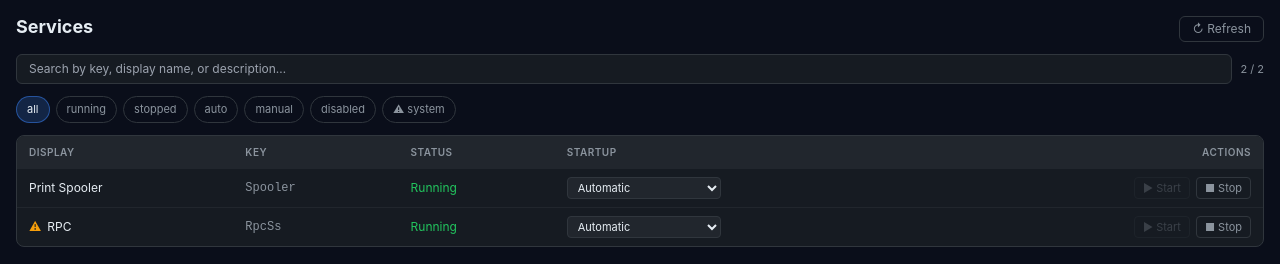
Scenario: Services page › load-bearing chip filters to only the system services
The image size is (1280, 264).
Click the button "⚠ system" at (419, 109), box left=382, top=96, right=456, bottom=122
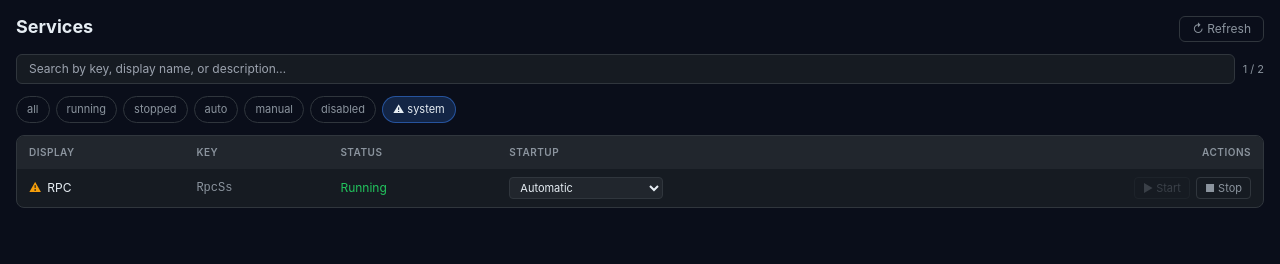
Expected: the text "RPC" is shown, left=47, top=180, right=72, bottom=194
Result: the text "Print Spooler" is gone
